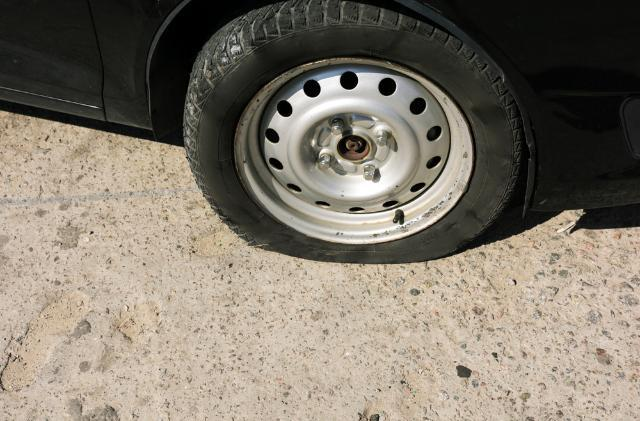tire flat: (184, 0, 521, 263)
